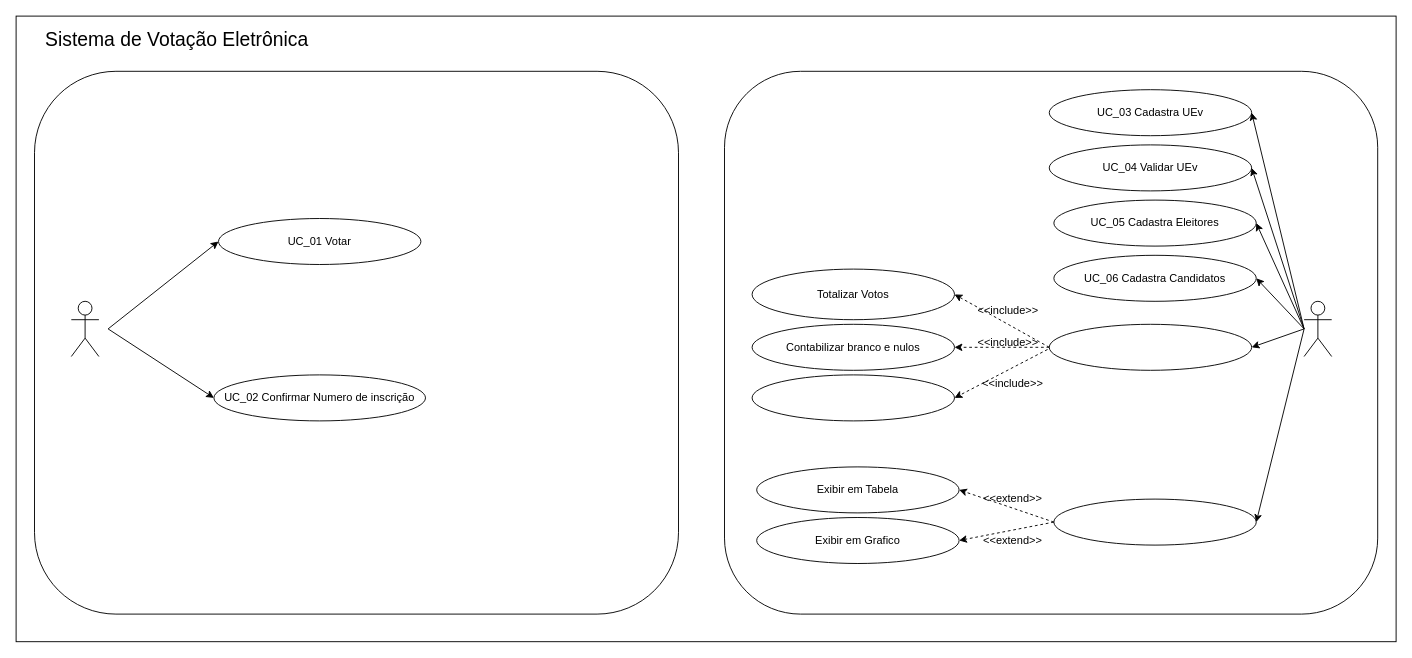
Image size: 1412x658. Some labels were removed from this diagram. The shapes that lost their labels are listed below. From the top down, each one's box as (x1, y1, x2, y2) in pixels, then its label:
(70, 300, 99, 356): Eleitor
(1048, 323, 1252, 370): UC_07 Gerar Resultado
(1303, 300, 1332, 356): Administrador
(751, 374, 954, 421): Reportar eleitores ausentes
(1053, 498, 1256, 545): UC_08 Exibir Resultado
